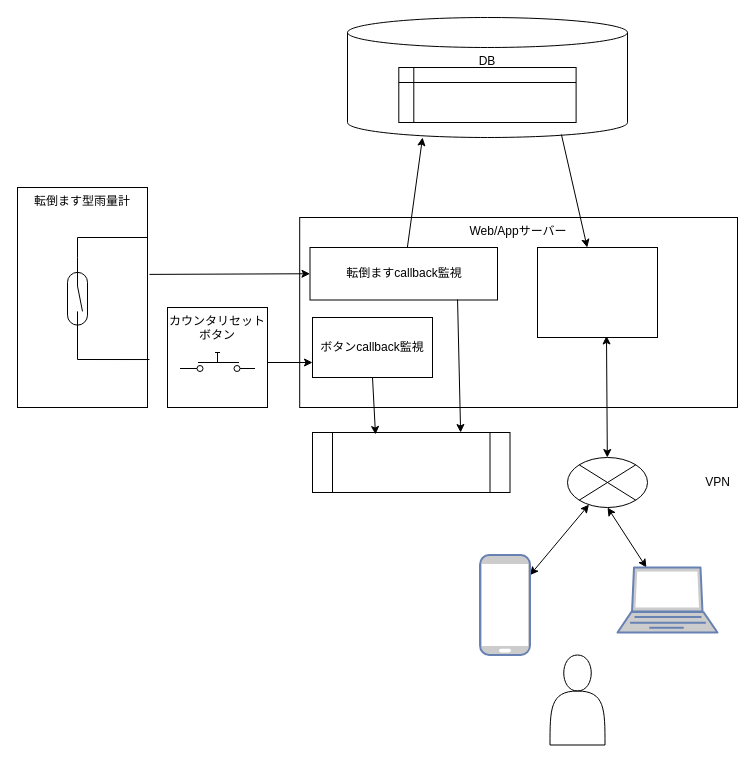
The diagram is 755 pixels wide and 763 high, and some of its shapes have lost their labels. The centre of each missing label's shape, as x and y in pixels:
"LCD" belongs at pixel 411 462.
"ダッシュボード" belongs at pixel 597 292.
"転倒時刻" belongs at pixel 487 94.
